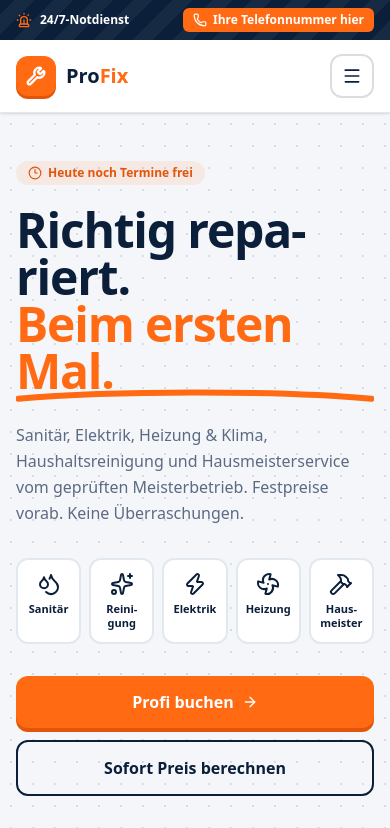
routing › toggles the mobile menu
Click the button named "menü öffnen".
click(352, 76)  # box x1=330 y1=54 x2=374 y2=98
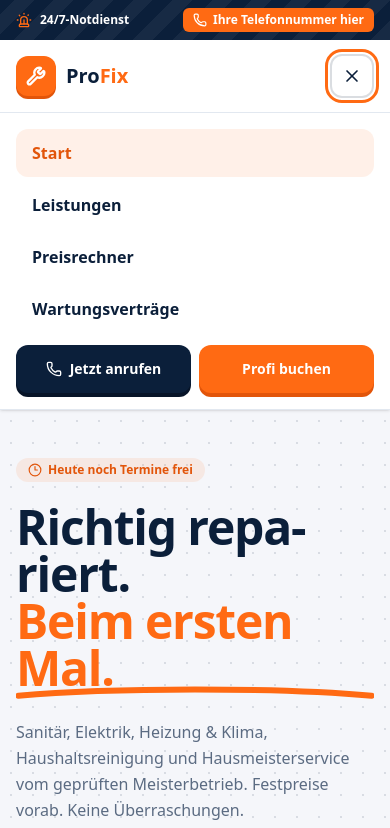
Now the button named "menü schließen" is expanded, box x1=330 y1=54 x2=374 y2=98
